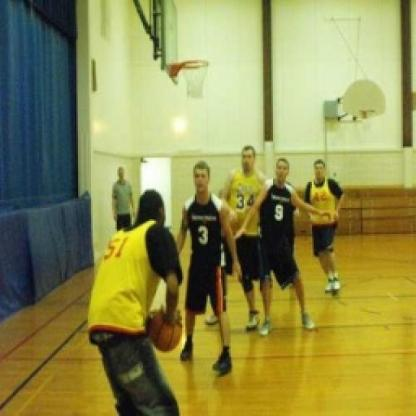basketball: (148, 306, 185, 355)
